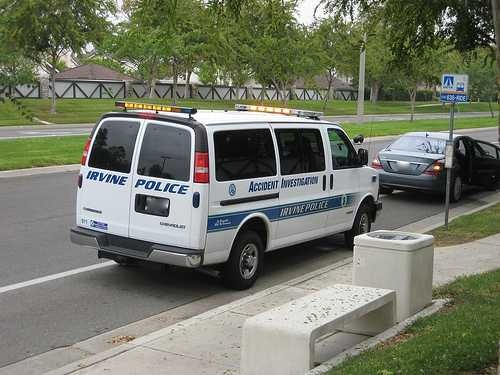Police Van: (79, 78, 383, 288)
